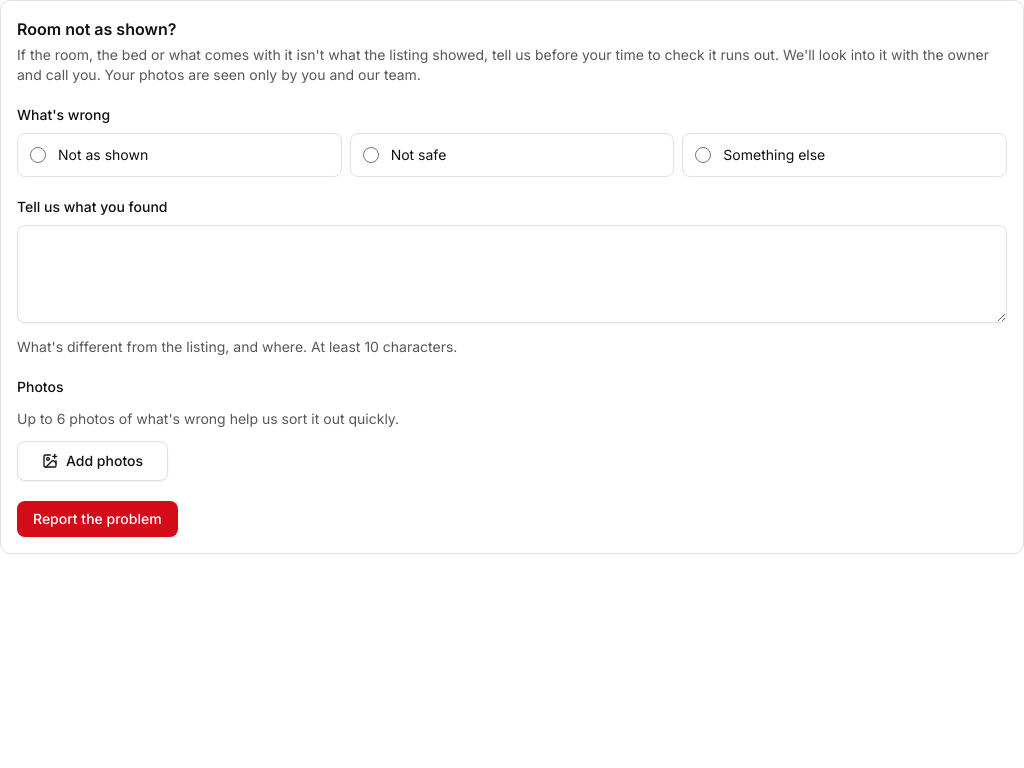
DisputeForm › says so, and looks again, once the time to report has passed
Click the radio button labelled "Not as shown".
click(38, 155)  # box left=30, top=147, right=46, bottom=163
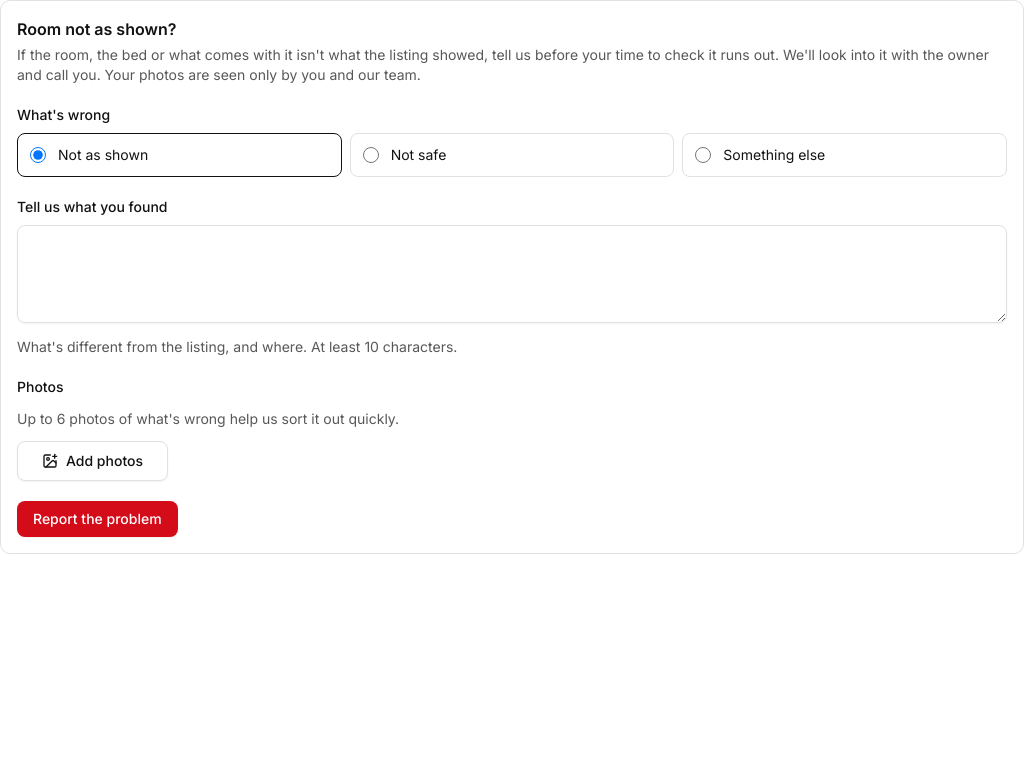
Type "The listing showed a window; the room has none." into the text box labelled "Tell us what you found".
click(512, 274); type("The listing showed a window; the room has none.")  # box left=17, top=225, right=1007, bottom=323
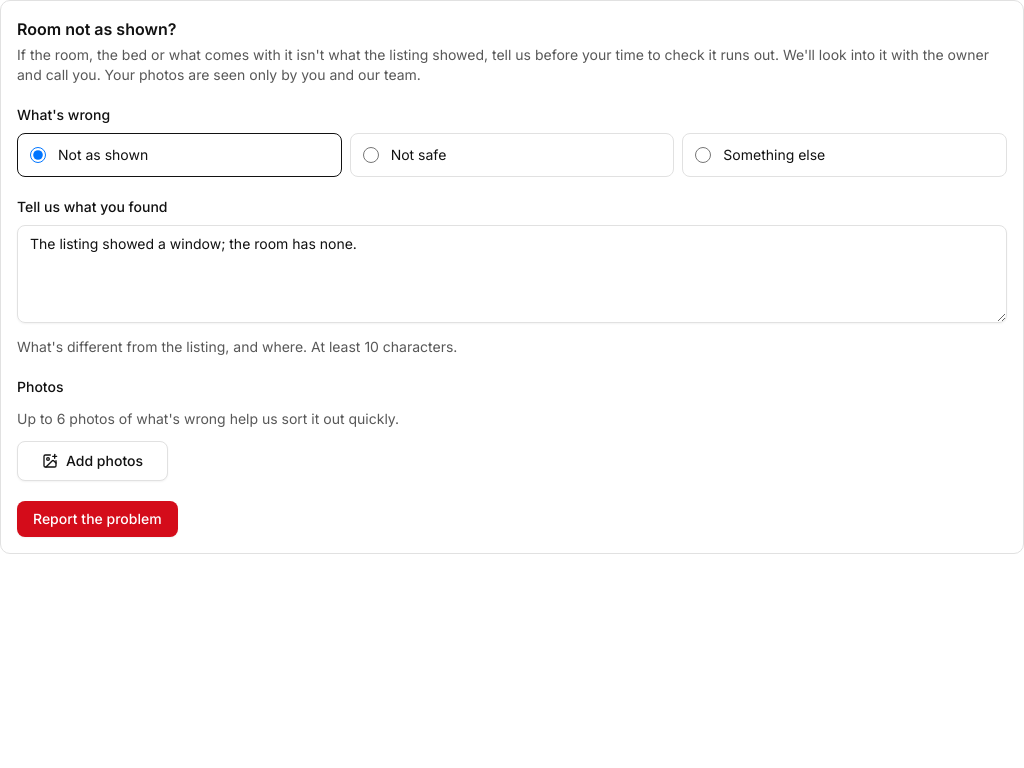
Click the button "Report the problem".
click(97, 519)  # box left=17, top=501, right=178, bottom=537
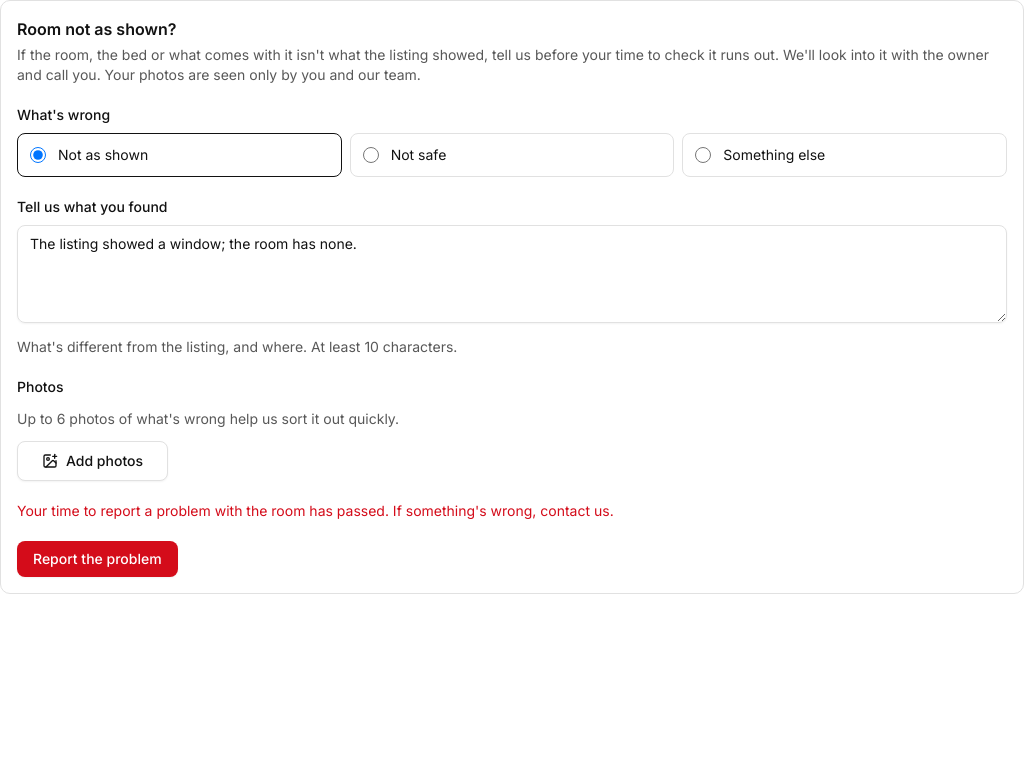
expect the message shows "Your time to report a problem with the room has passed. If something's wrong, contact us.": met, box left=17, top=502, right=614, bottom=519
